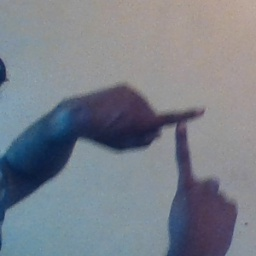T: (132, 87, 225, 206)
